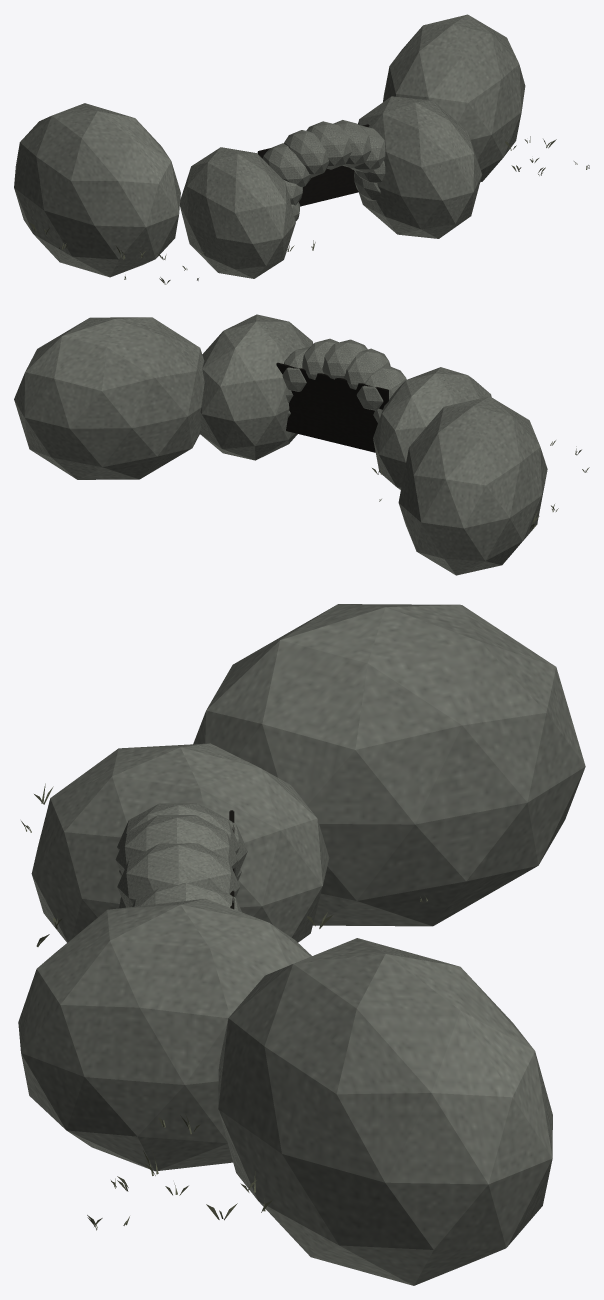
Rendered from cave-v1.glb.
3 renders of one model, top to bottom at view 1: azimuth 30°, elevation 25°; view 2: azimuth 150°, elevation 25°; view 3: azimuth 270°, elevation 25°, orthographic. The views are drawn at different scales.
Parts seen in each view (by area): view 1: Fractured rock outcrop, Weathered cave rock, Cave darkness, Grass blades; view 2: Fractured rock outcrop, Cave darkness, Weathered cave rock; view 3: Fractured rock outcrop, Weathered cave rock, Grass blades.
Part boxes in pixels (x1,y1,x2,y2): Fractured rock outcrop: [14, 14, 525, 278]; Weathered cave rock: [262, 120, 385, 221]; Cave darkness: [257, 124, 369, 206]; Grass blades: [29, 136, 589, 284]; Fractured rock outcrop: [14, 314, 547, 575]; Cave darkness: [276, 362, 388, 452]; Weathered cave rock: [282, 338, 406, 422]; Fractured rock outcrop: [18, 604, 585, 1285]; Weathered cave rock: [115, 803, 247, 912]; Grass blades: [21, 783, 427, 1230].
Size of what is drawn, in the model's own units: 22.29 by 6.8 by 11.06.
Materials: 3 (3 with a texture image).
